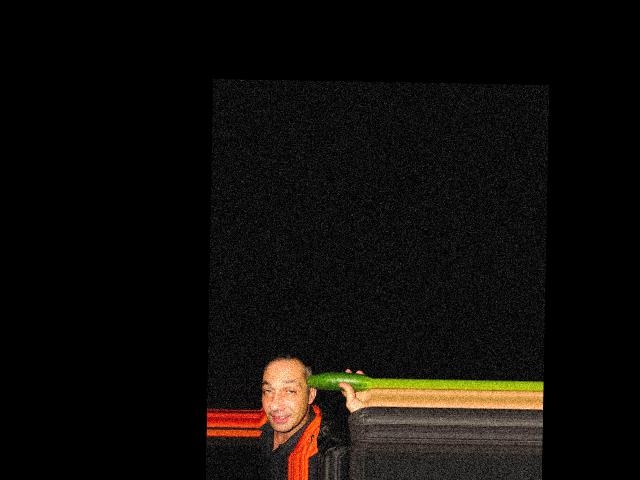cucumber: (305, 371, 371, 391)
